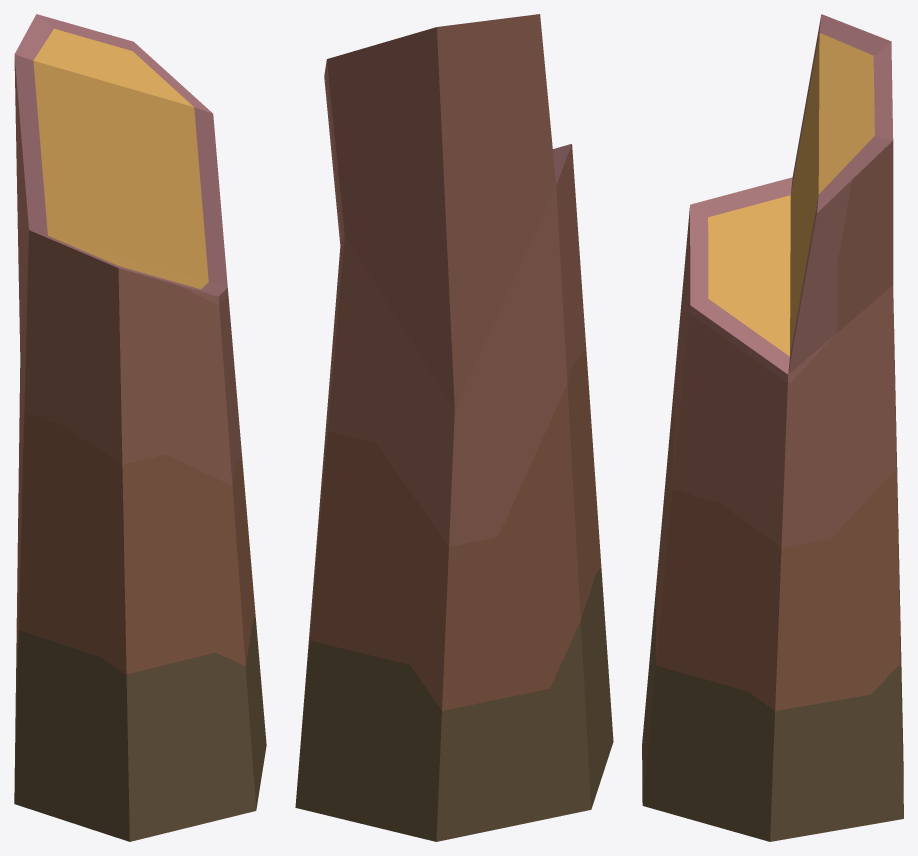
The model's file is BushStump.fbx.
3 views of the same model, side by side, from view 1: azimuth 30°, elevation 25°; view 2: azimuth 150°, elevation 25°; view 3: azimuth 270°, elevation 25° (orthographic). The views are drawn at different scales.
Visible parts, largest first — view 1: BushStump; view 2: BushStump; view 3: BushStump.
Boxes of the visible parts, <box> form: BushStump: <box>14,14,266,841</box>; BushStump: <box>295,14,613,841</box>; BushStump: <box>642,14,903,841</box>.
Size of the model in its own units: 0.4287 by 1.2 by 0.3945.
